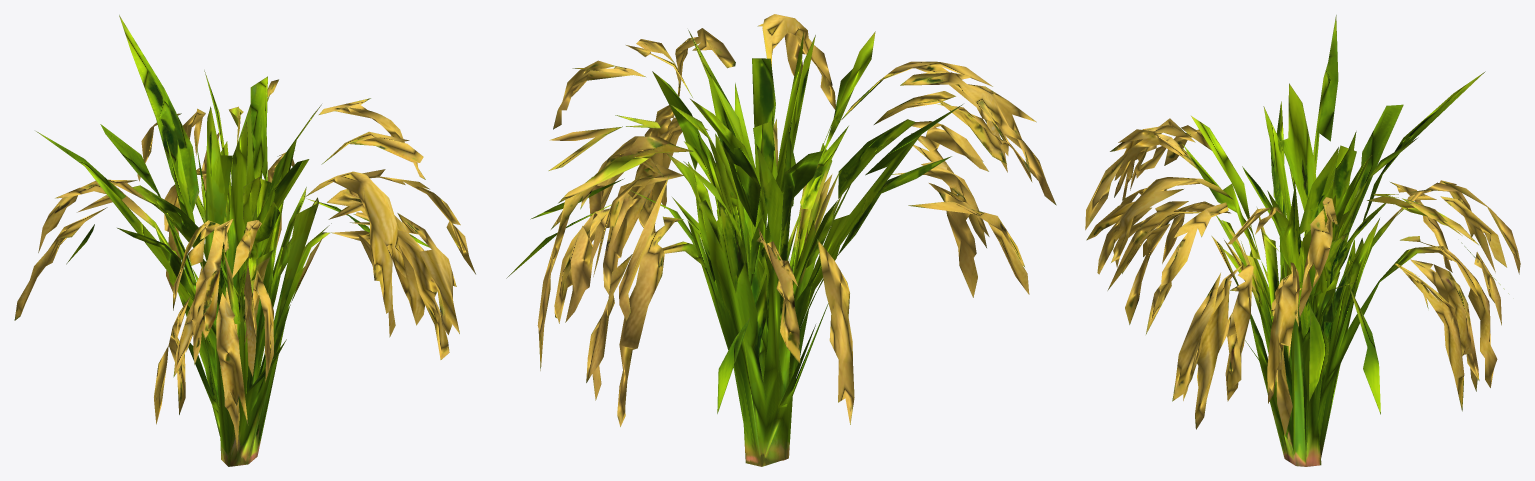
Rendered from Meshy_AI_Rice_Plant_Bouquet_0711140008_texture.fbx.
3 views of the same model, side by side, from view 1: azimuth 30°, elevation 25°; view 2: azimuth 150°, elevation 25°; view 3: azimuth 270°, elevation 25° (orthographic). The views are drawn at different scales.
Parts seen in each view (by area): view 1: Mesh_0; view 2: Mesh_0; view 3: Mesh_0.
Part boxes in pixels (<box>): Mesh_0: <box>14,15,475,466</box>; Mesh_0: <box>506,14,1056,466</box>; Mesh_0: <box>1085,15,1520,466</box>.
Size of the model in its own units: 184 by 173 by 181.
Materials: 1 (1 with a texture image).
